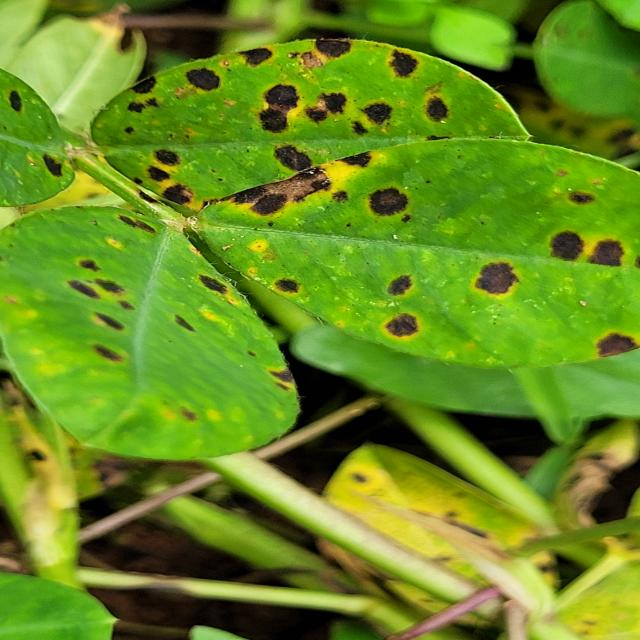Ground nut_tikka leaf spot: (194, 131, 640, 368), (91, 37, 542, 219), (3, 199, 305, 458)
